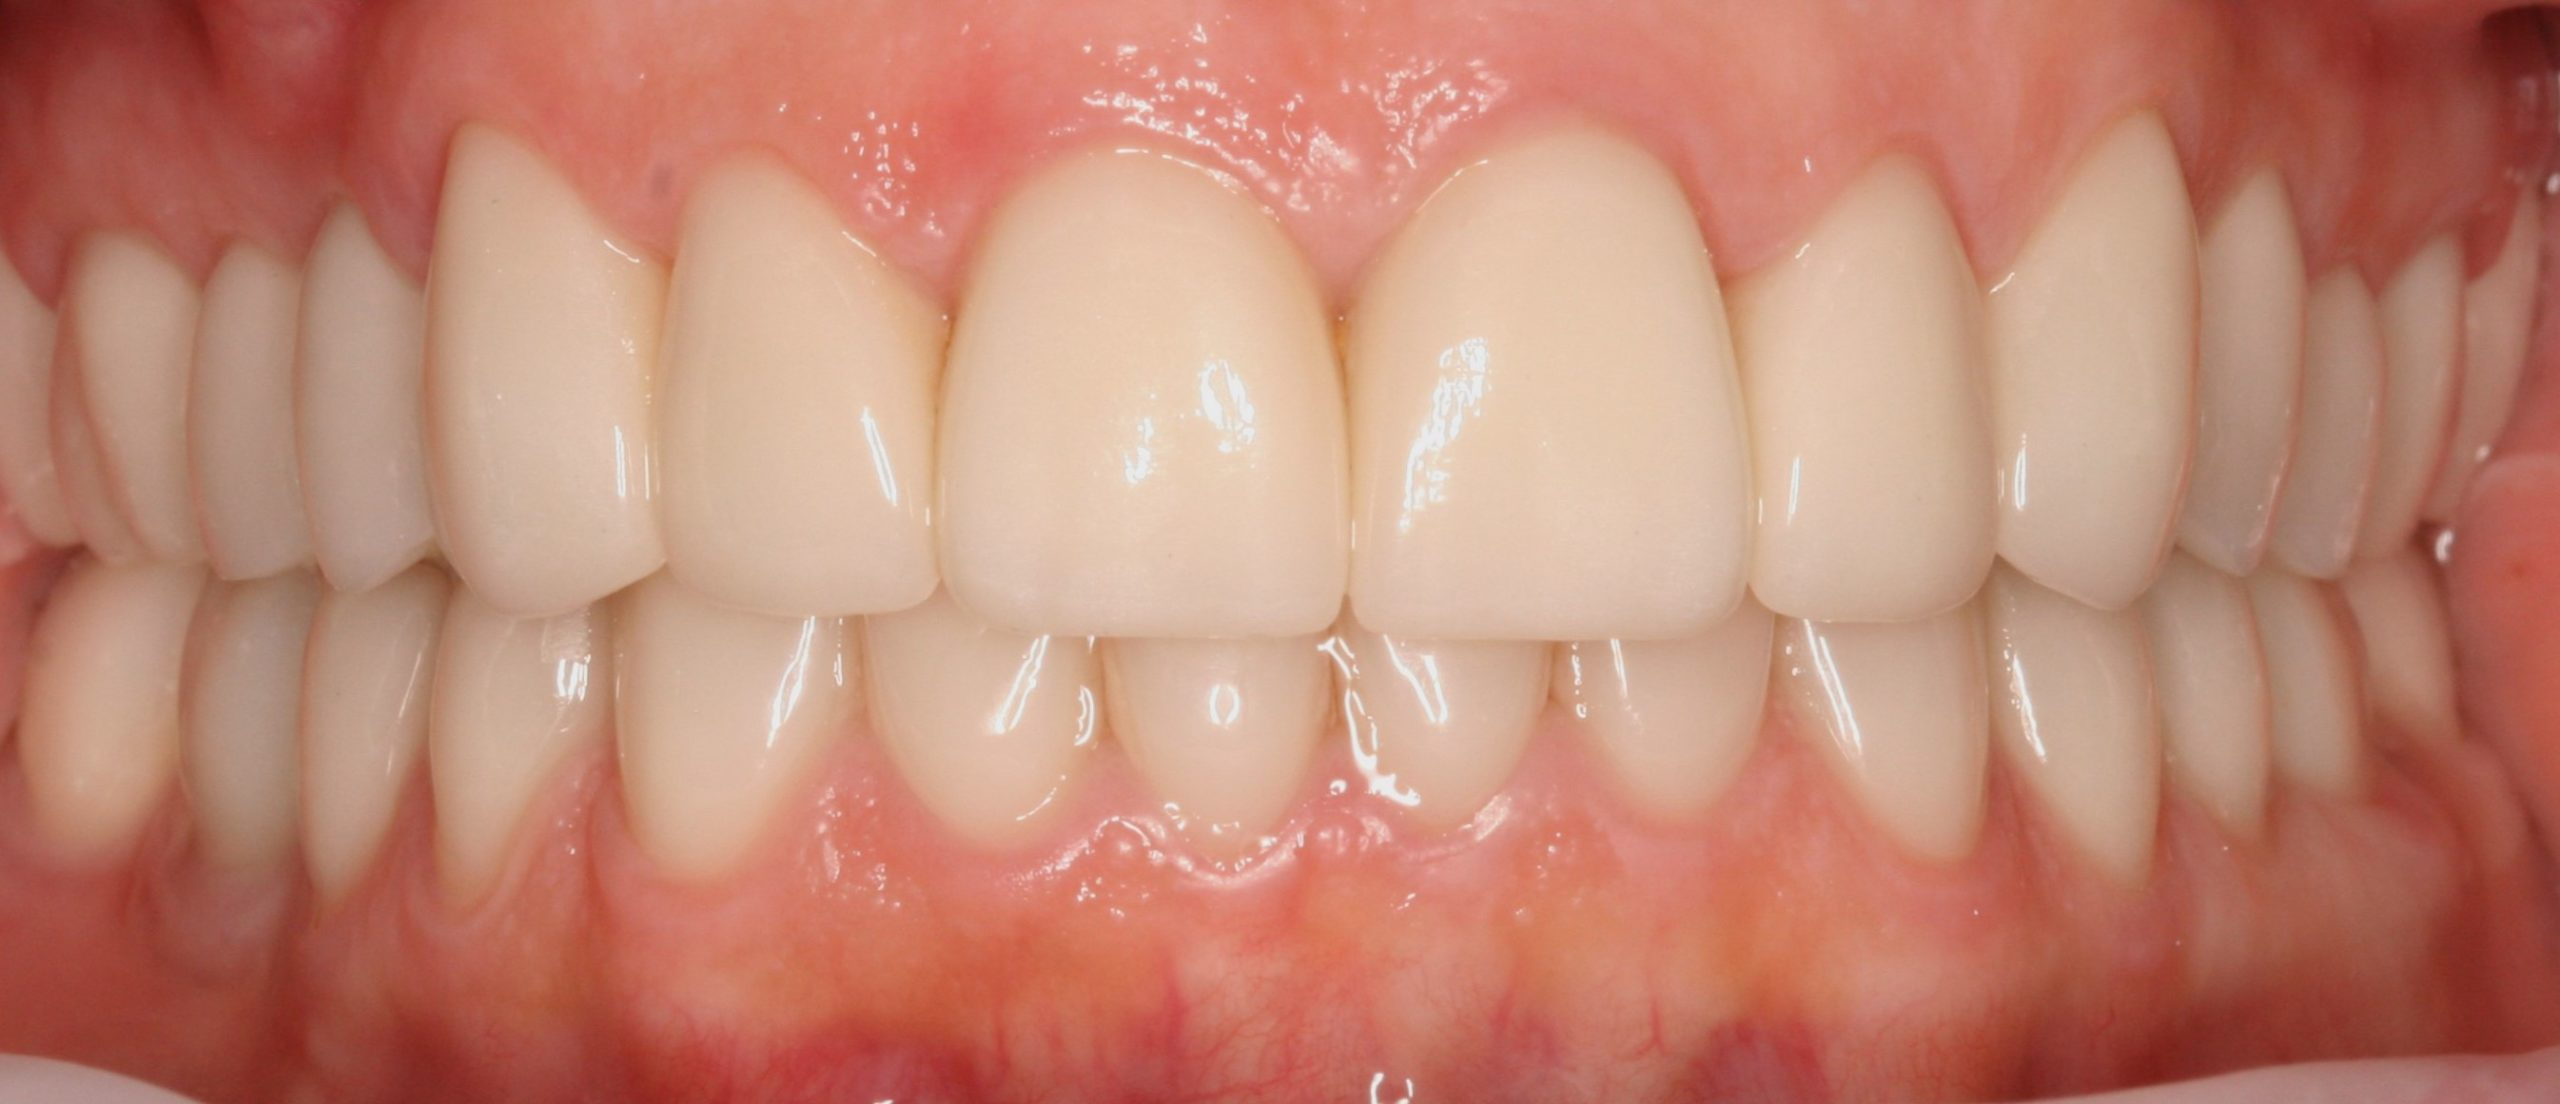LL1BC_healthy: (2007, 593, 2170, 897)
LL1M_healthy: (2273, 599, 2392, 851)
LL2BC_healthy: (2167, 580, 2284, 882)
LLCI_healthy: (1337, 635, 1540, 867)
LLC_healthy: (1798, 621, 2007, 882)
LLLI_healthy: (1559, 629, 1773, 839)
LR1BC_healthy: (420, 599, 609, 924)
LR1M_healthy: (167, 621, 300, 921)
LR2BC_healthy: (284, 599, 416, 911)
LR2M_healthy: (7, 585, 188, 866)
LRCI_healthy: (1113, 647, 1337, 897)
LRC_healthy: (614, 596, 859, 910)
LRLI_healthy: (864, 604, 1104, 905)
UL1BC_healthy: (2188, 160, 2312, 608)
UL1M_healthy: (2380, 260, 2464, 585)
UL2BC_healthy: (2296, 268, 2395, 596)
ULCI_healthy: (1350, 136, 1758, 632)
ULC_healthy: (1995, 121, 2209, 621)
ULLI_healthy: (1757, 157, 2007, 632)
UR1BC_healthy: (289, 232, 434, 581)
UR1M_healthy: (34, 247, 217, 616)
UR2BC_healthy: (149, 216, 336, 596)
URCI_healthy: (942, 154, 1342, 643)
URC_healthy: (411, 118, 678, 612)
URLI_healthy: (638, 176, 957, 608)
